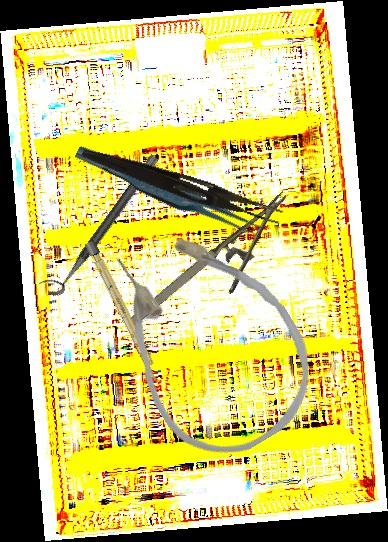Cannula: (81, 198, 338, 479)
Dressing Forceps: (78, 145, 286, 226)
Fixation Ring: (38, 145, 160, 300)
Needle Holder: (124, 191, 313, 354)
Scalpel Handle: (85, 240, 162, 384)
Tissue Forceps: (73, 131, 266, 253)
